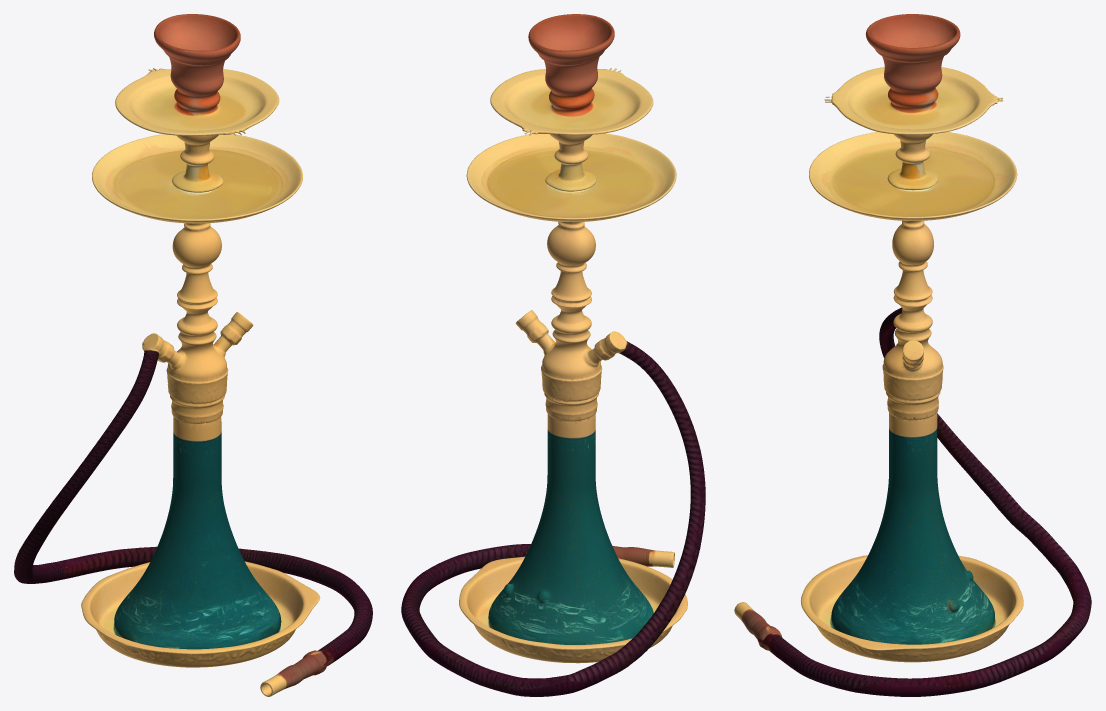
The model's file is hookah.glb.
3 views of the same model, side by side, from view 1: azimuth 30°, elevation 25°; view 2: azimuth 150°, elevation 25°; view 3: azimuth 270°, elevation 25° (orthographic).
Size of the model in its own units: 0.9947 by 1.9 by 1.03.
1 material, 1 textured.
